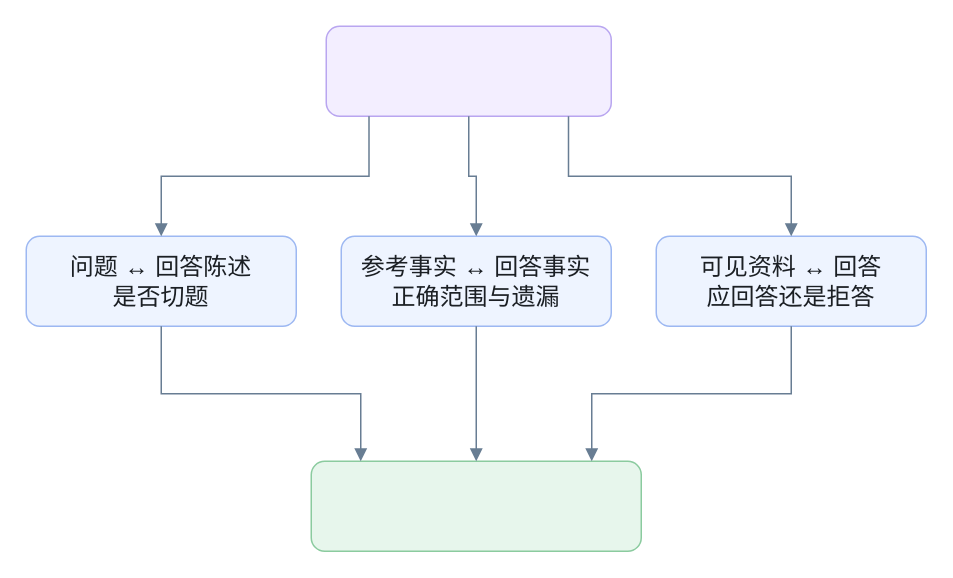
This 953x578 diagram has some shape labels left out. Each missing label, with the centre of its shape:
保留各维度与理由 不合成未经校准的总分: the point at 475,505
同一问题与不同回答 分别检查质量维度: the point at 468,70
